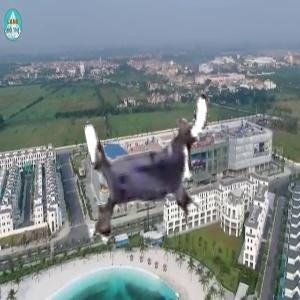drone: (68, 88, 230, 250)
